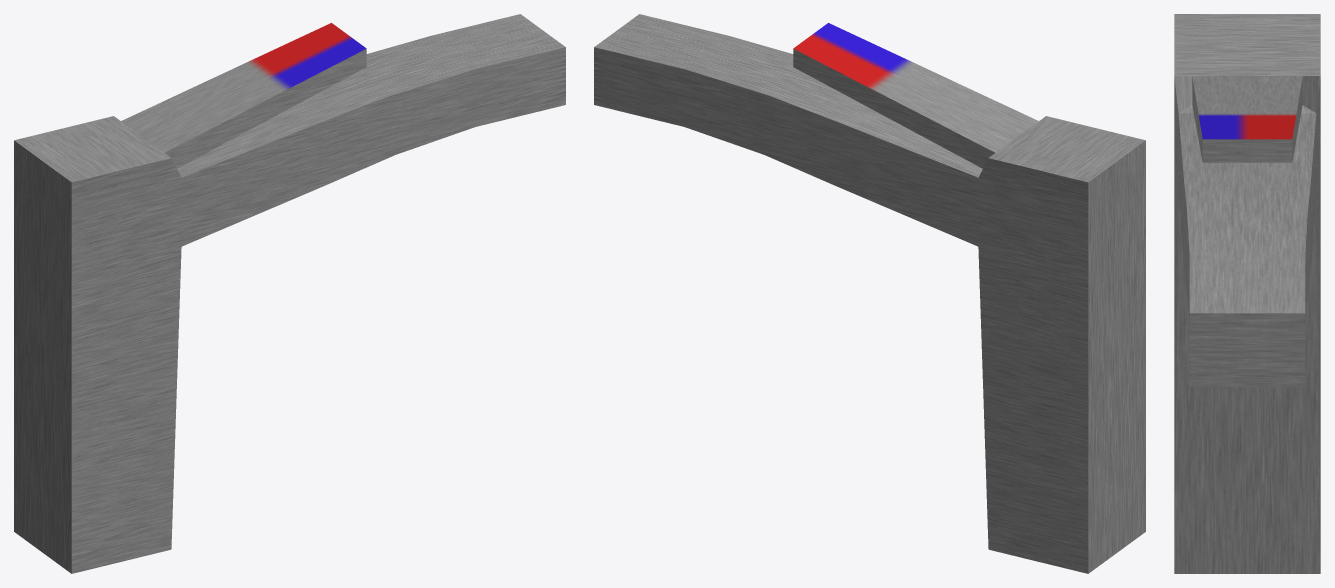
File: faucet.fbx
The picture shows the model from 3 angles, left to right: view 1: azimuth 30°, elevation 25°; view 2: azimuth 150°, elevation 25°; view 3: azimuth 270°, elevation 25°; orthographic projection. The views are drawn at different scales.
Visible parts, largest first — view 1: faucet; view 2: faucet; view 3: faucet.
Part boxes in pixels (x1,y1,x2,y2): faucet: (14, 14, 565, 573); faucet: (594, 14, 1145, 573); faucet: (1174, 14, 1320, 573).
Bounding box in the file's own units: 0.3441 × 0.2908 × 0.0686.
